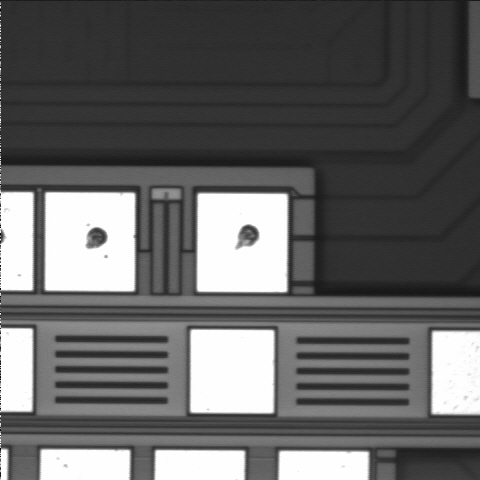pad: (45, 192, 135, 291), (197, 193, 287, 292), (190, 330, 274, 413)
